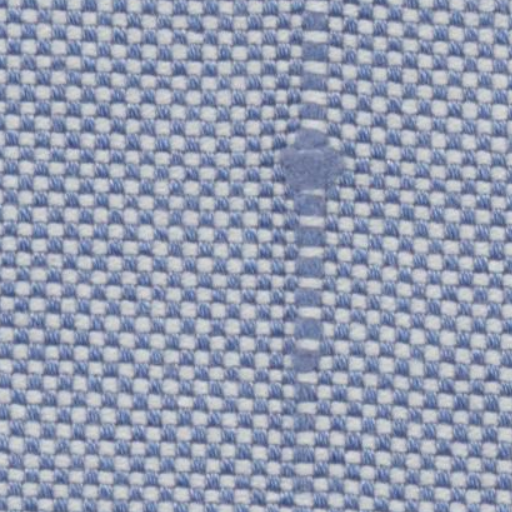DaiSha: (264, 6, 357, 436)
